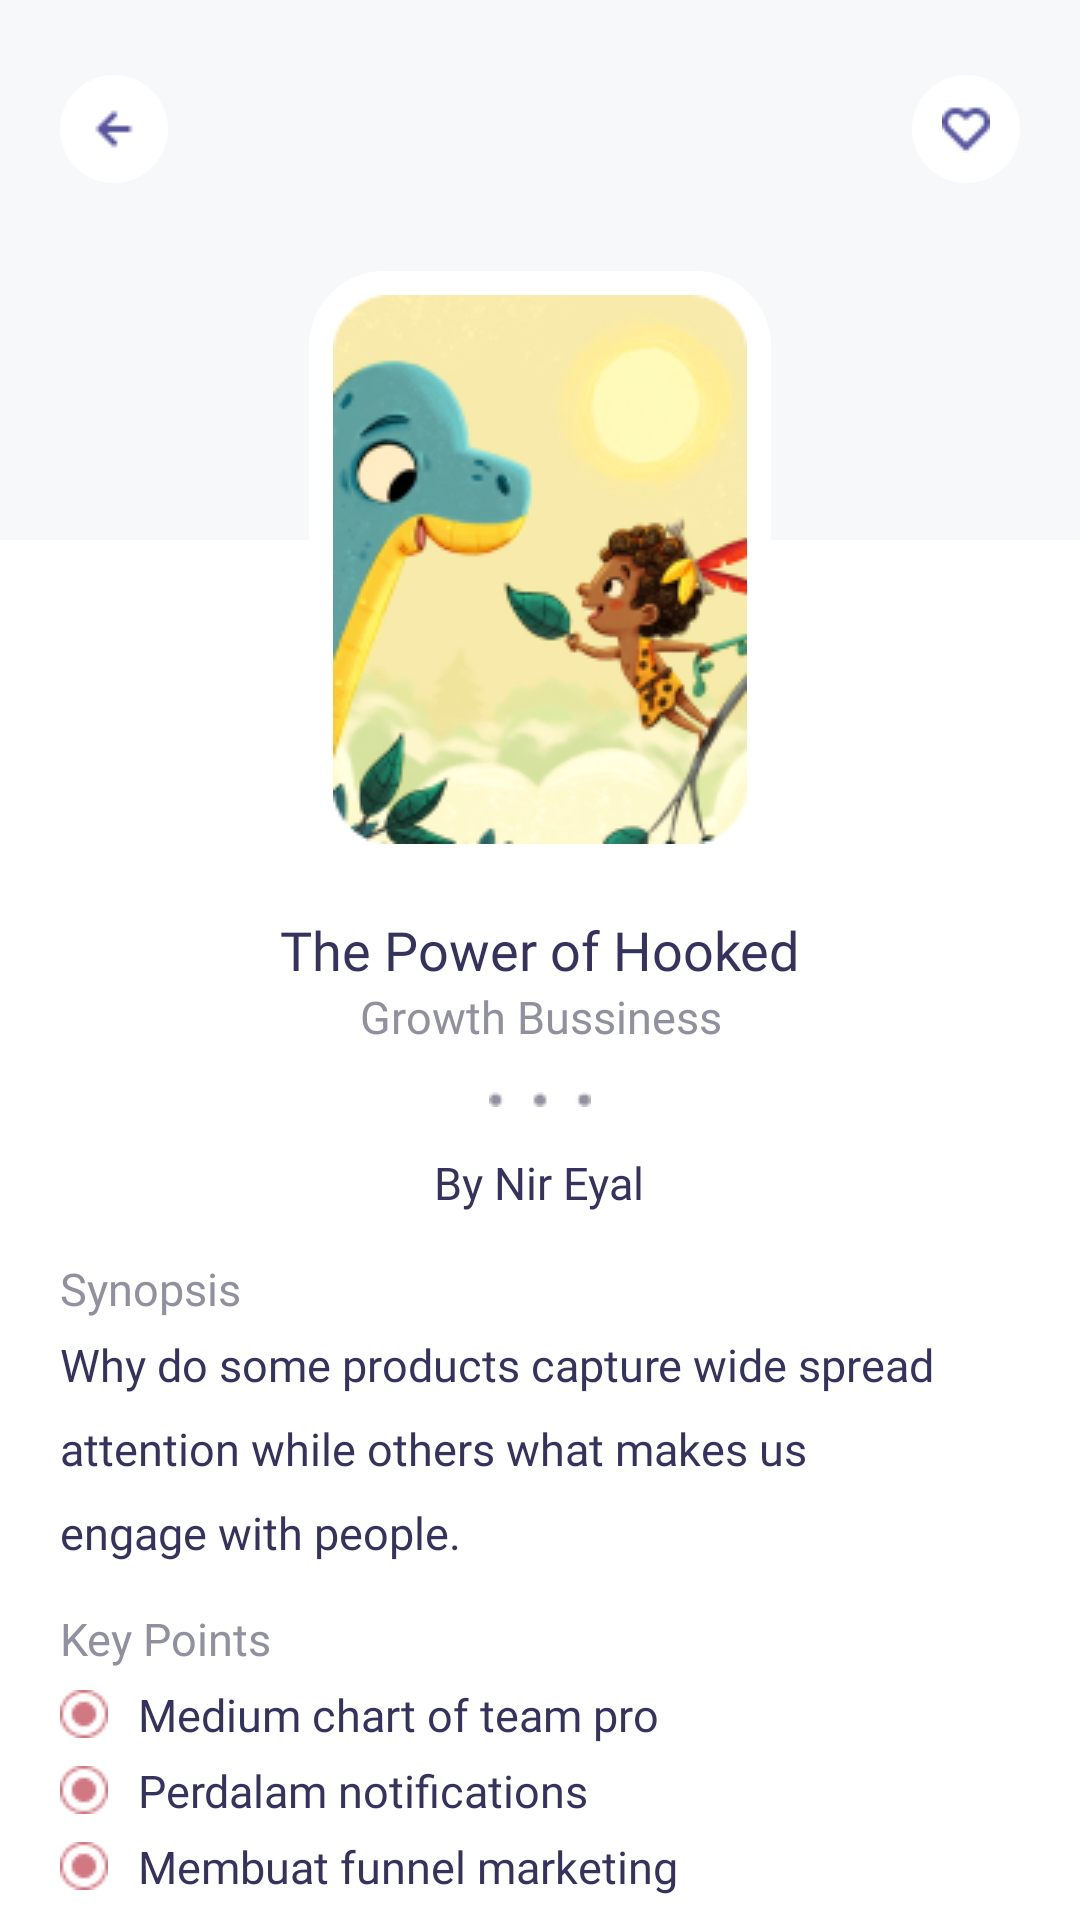

Point at icon controls on the screen. Image size 1080 × 1920, points as [x,y].
arrow left: [114,129]
heart: [966,129]
